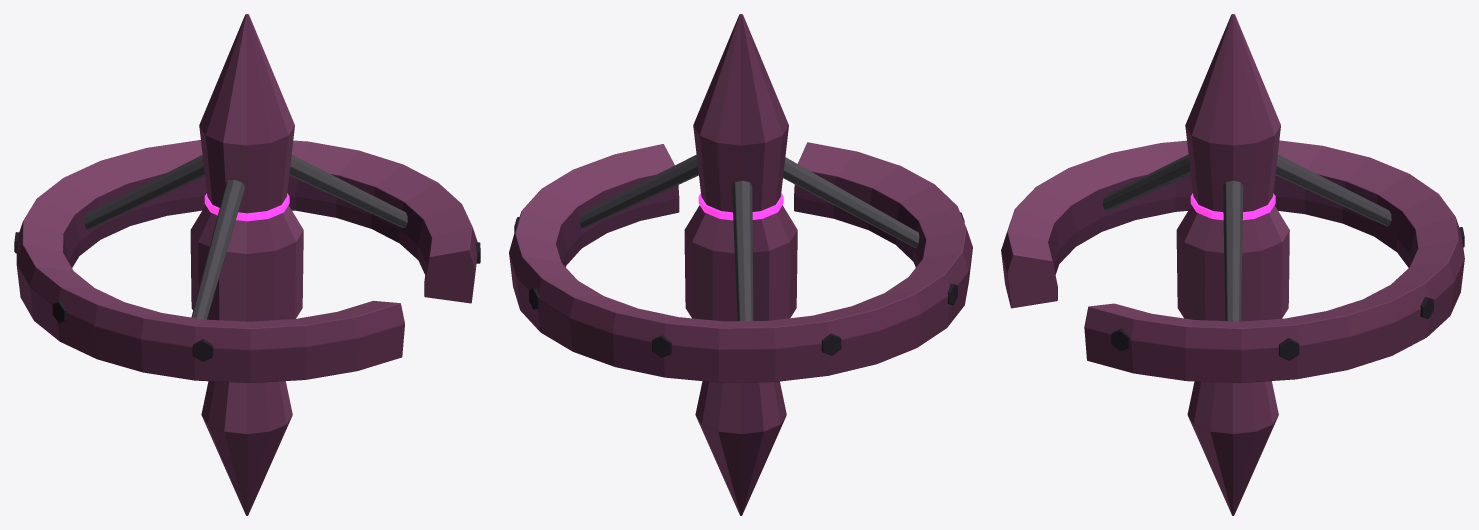
File: Spindle.fbx
3 renders of one model, left to right at view 1: azimuth 30°, elevation 25°; view 2: azimuth 150°, elevation 25°; view 3: azimuth 270°, elevation 25°, orthographic.
Visible parts, largest first — view 1: Armor 2, Armor 1, Armor 5, Armor 4; view 2: Armor 2, Armor 1, Armor 4, Armor 5; view 3: Armor 2, Armor 1, Armor 4, Armor 5.
Part boxes in pixels (bbox=[...]): Armor 2: bbox=[16, 140, 477, 383]; Armor 1: bbox=[190, 14, 303, 515]; Armor 5: bbox=[52, 180, 244, 361]; Armor 4: bbox=[14, 155, 204, 253]; Armor 2: bbox=[509, 142, 972, 382]; Armor 1: bbox=[684, 14, 797, 515]; Armor 4: bbox=[652, 180, 841, 357]; Armor 5: bbox=[783, 157, 964, 305]; Armor 2: bbox=[1001, 140, 1464, 382]; Armor 1: bbox=[1176, 14, 1289, 515]; Armor 4: bbox=[1275, 154, 1464, 247]; Armor 5: bbox=[1102, 154, 1190, 210].
Size of the model in its own units: 0.1262 by 0.15 by 0.1258.
